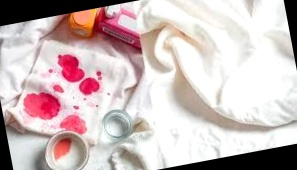lipstick: (45, 49, 90, 94), (25, 83, 72, 124), (54, 107, 94, 142), (70, 67, 108, 103)
